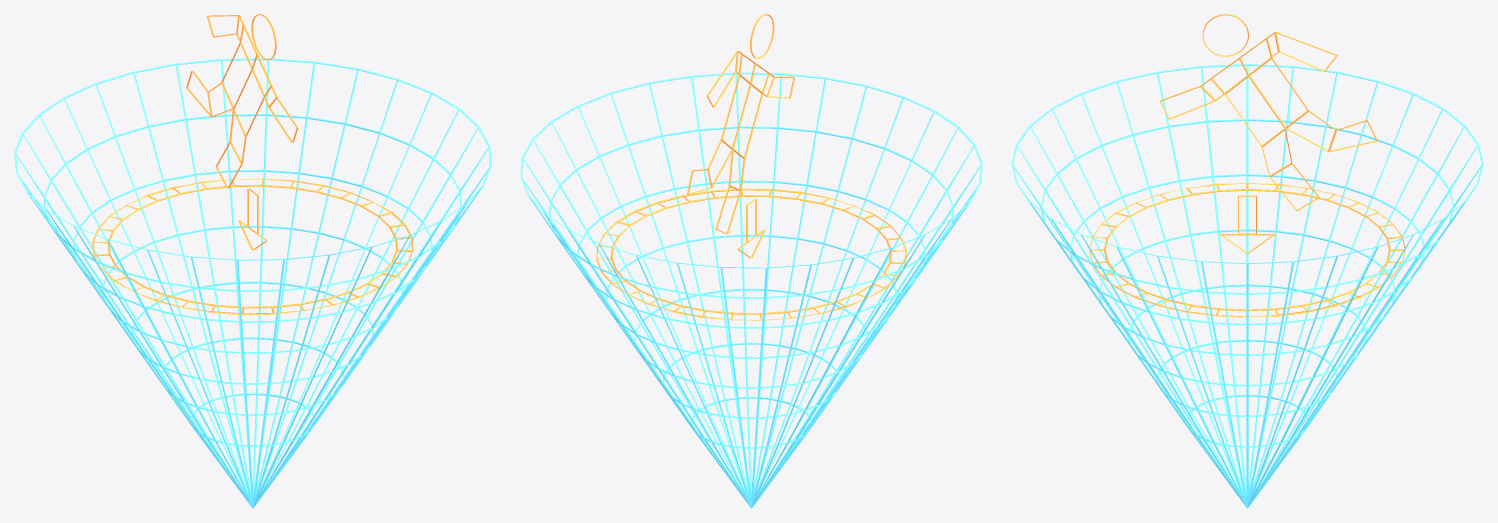
The model's file is bonusPortail.fbx.
3 renders of one model, left to right at view 1: azimuth 30°, elevation 25°; view 2: azimuth 150°, elevation 25°; view 3: azimuth 270°, elevation 25°, orthographic. The views are drawn at different scales.
Parts seen in each view (by area): view 1: Cone; view 2: Cone; view 3: Cone.
Boxes of the visible parts, x1,y1,x2,y2 form: Cone: [14, 14, 491, 508]; Cone: [520, 14, 982, 508]; Cone: [1011, 14, 1483, 508].
Size of the model in its own units: 232 by 268 by 232.
